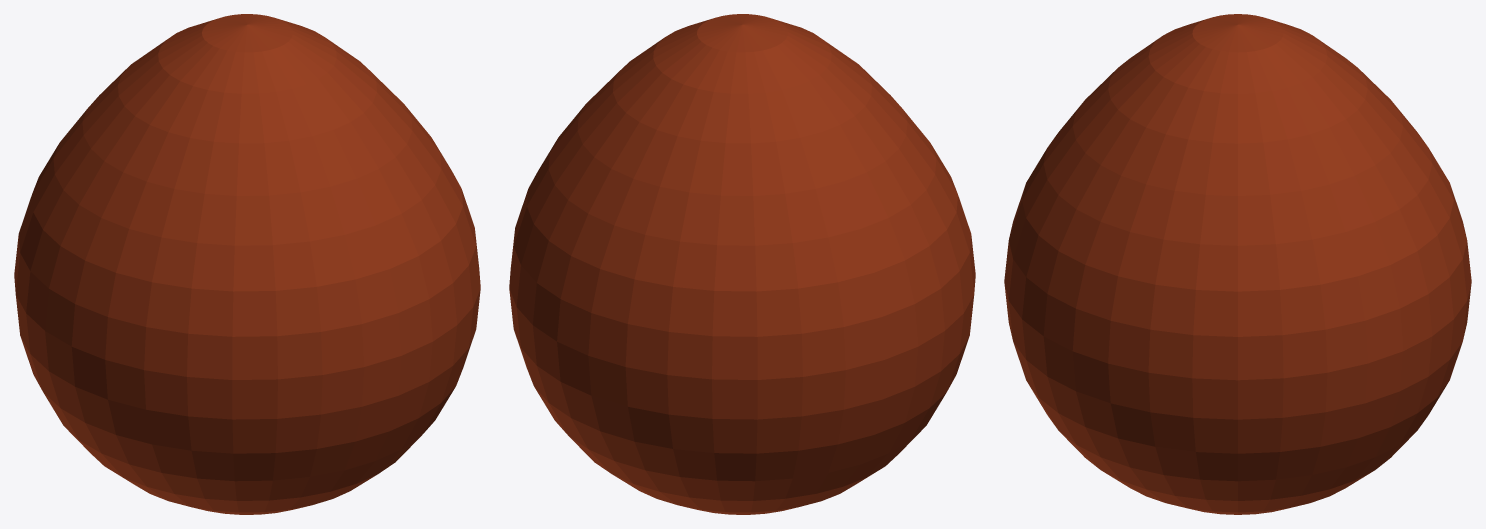
Rendered from hzl2.fbx.
3 views of the same model, side by side, from view 1: azimuth 30°, elevation 25°; view 2: azimuth 150°, elevation 25°; view 3: azimuth 270°, elevation 25° (orthographic).
Visible parts, largest first — view 1: Sphere; view 2: Sphere; view 3: Sphere.
Part boxes in pixels (box(x1,y1,x2,y2)): Sphere: box(14, 14, 480, 514); Sphere: box(509, 14, 975, 514); Sphere: box(1004, 14, 1471, 514).
Bounding box in the file's own units: 72.59 × 80.29 × 72.59.
